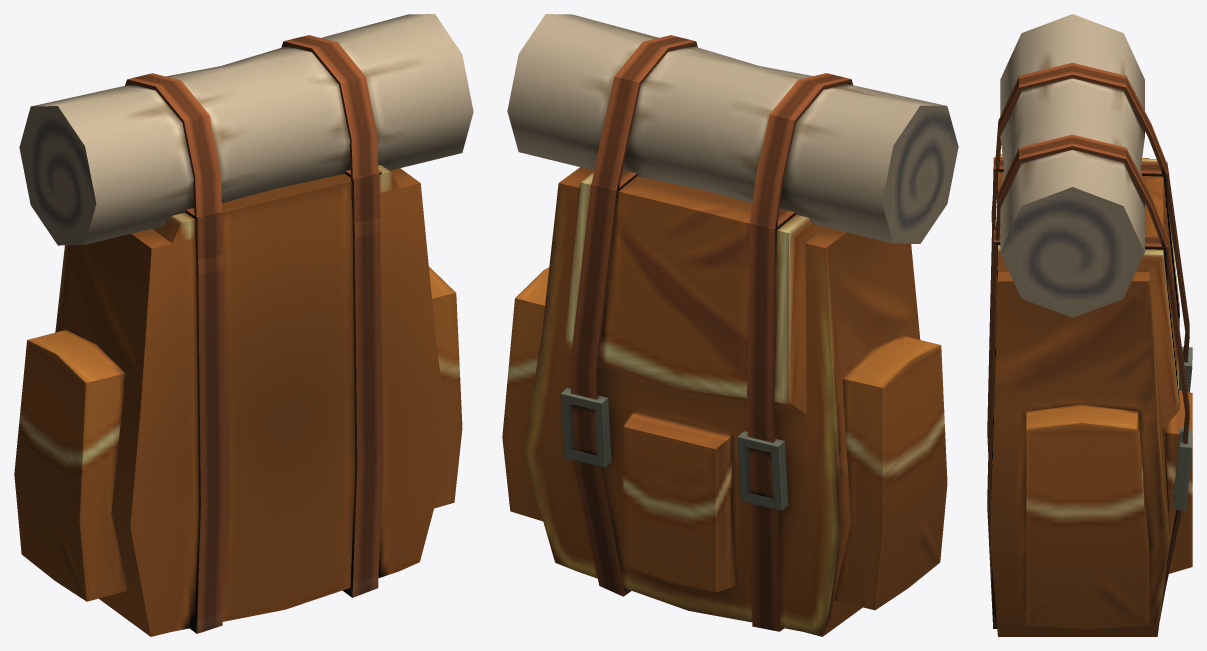
File: traveler_back.FBX
The picture shows the model from 3 angles, left to right: view 1: azimuth 30°, elevation 25°; view 2: azimuth 150°, elevation 25°; view 3: azimuth 270°, elevation 25°; orthographic projection. The views are drawn at different scales.
Parts seen in each view (by area): view 1: traveler_back, traveler_back_add; view 2: traveler_back, traveler_back_add; view 3: traveler_back, traveler_back_add.
Boxes of the visible parts, x1=… form: traveler_back: x1=14, y1=165, x2=462, y2=636; traveler_back_add: x1=19, y1=14, x2=473, y2=275; traveler_back: x1=502, y1=167, x2=947, y2=636; traveler_back_add: x1=507, y1=14, x2=958, y2=243; traveler_back: x1=987, y1=154, x2=1192, y2=636; traveler_back_add: x1=991, y1=14, x2=1166, y2=317.
Size of the model in its own units: 98.81 by 129 by 48.86.
